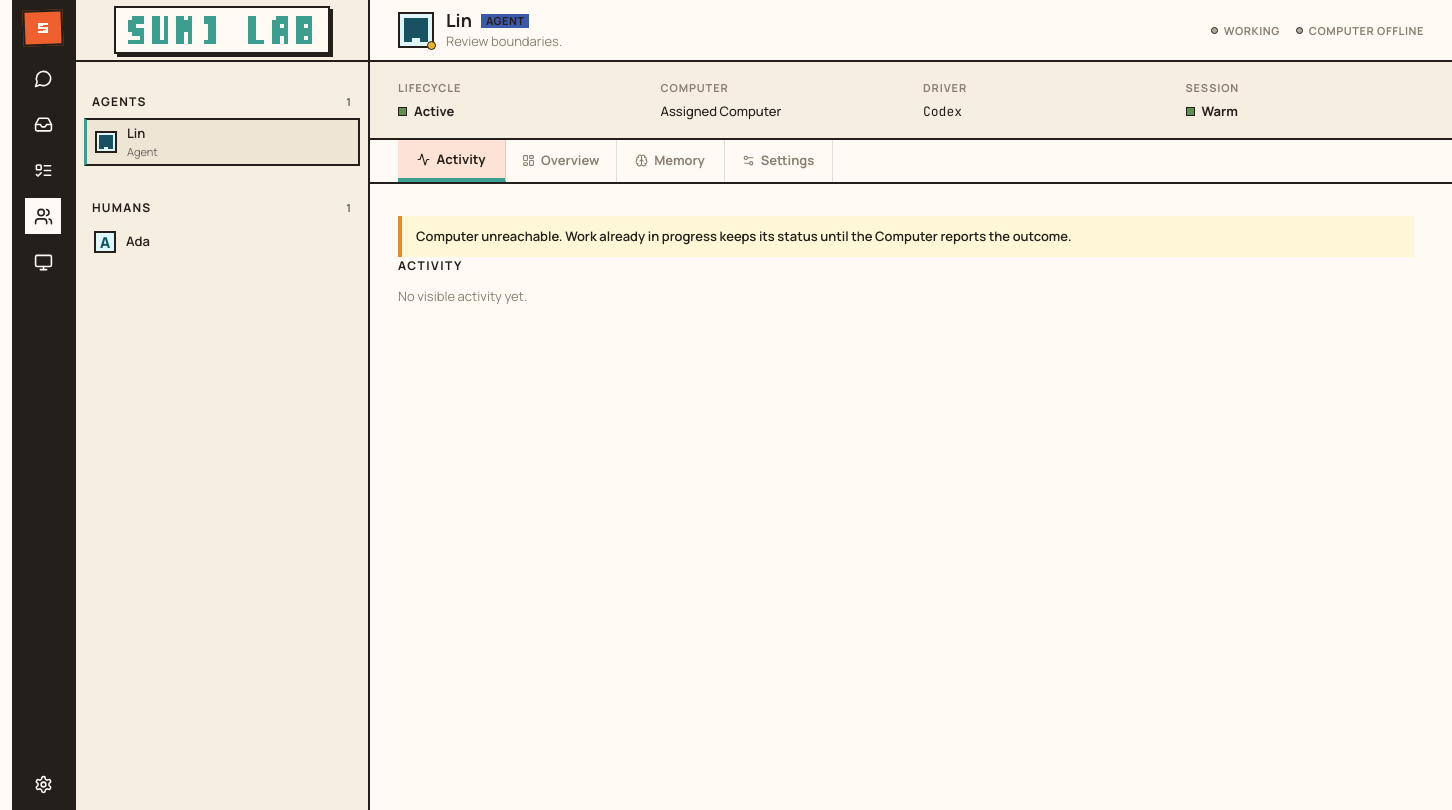
Test: Agent detail › renders a DM Focus without a channel link
Step 1. Click the tab "Overview" → (561, 161), box [506,140,616,182]
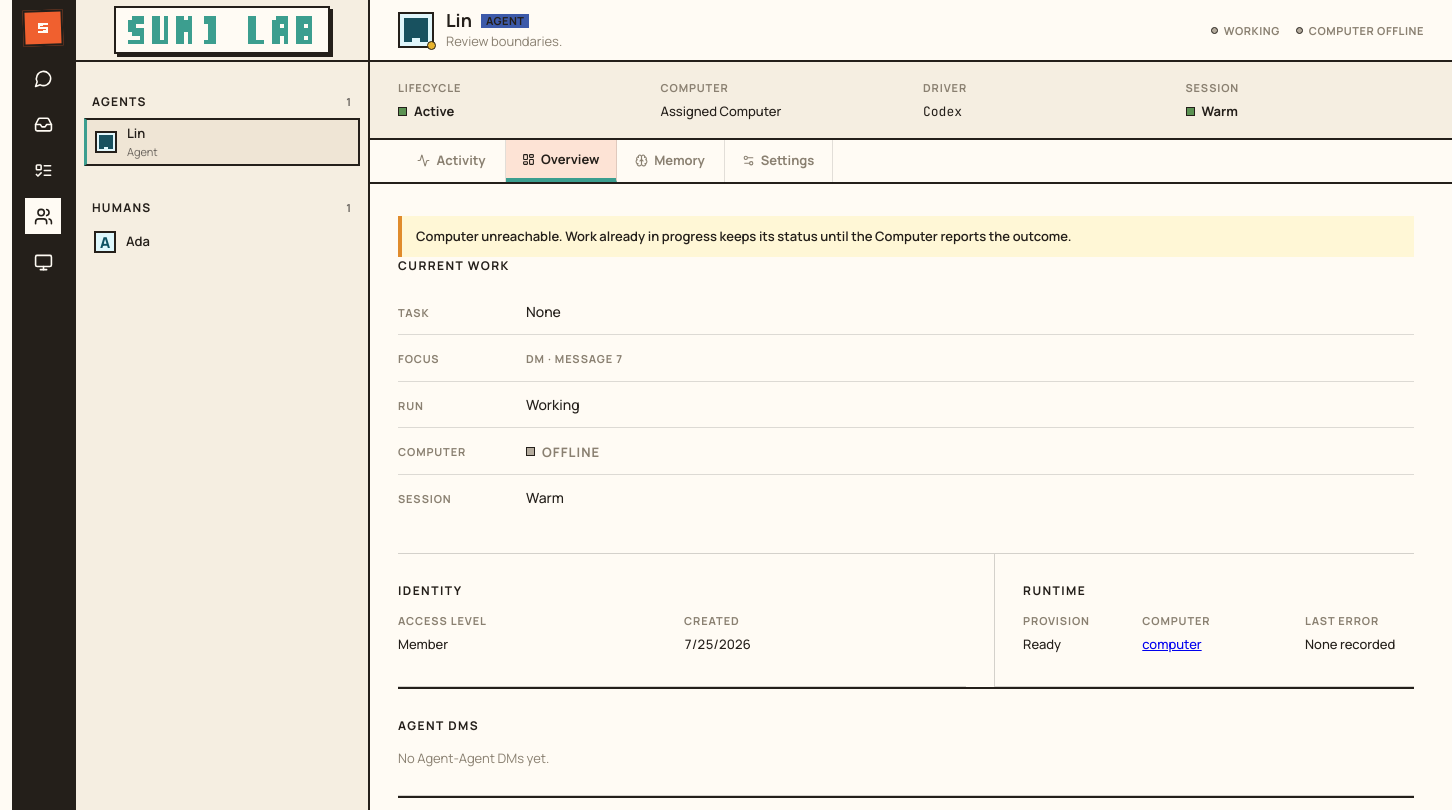
Expected: the text "DM · message 7" is shown, [526,351,623,366]
